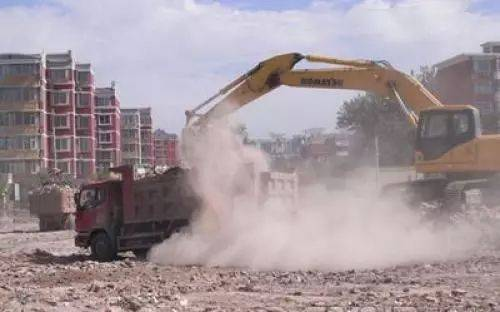dust: (181, 125, 443, 264)
